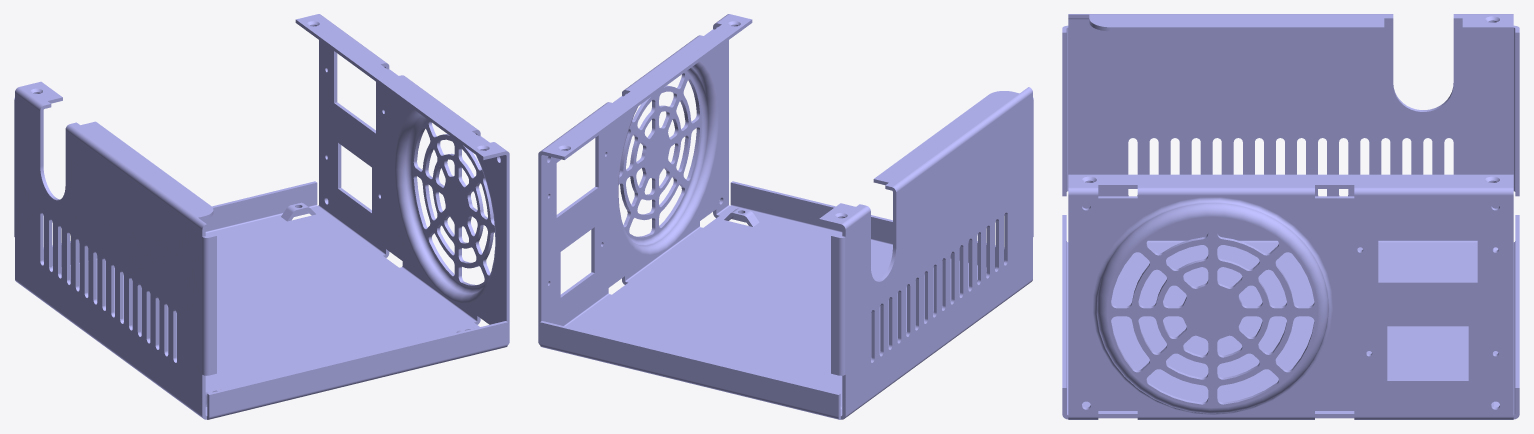
The model's file is Power Box_Chassis.glb.
The picture shows the model from 3 angles, left to right: view 1: azimuth 30°, elevation 25°; view 2: azimuth 150°, elevation 25°; view 3: azimuth 270°, elevation 25°; orthographic projection. The views are drawn at different scales.
Visible parts, largest first — view 1: Power Box_Chassis; view 2: Power Box_Chassis; view 3: Power Box_Chassis.
Part boxes in pixels (x1,y1,x2,y2): Power Box_Chassis: (14, 14, 509, 419); Power Box_Chassis: (538, 14, 1033, 419); Power Box_Chassis: (1062, 14, 1519, 419).
Size of the model in its own units: 0.145 by 0.085 by 0.152.
